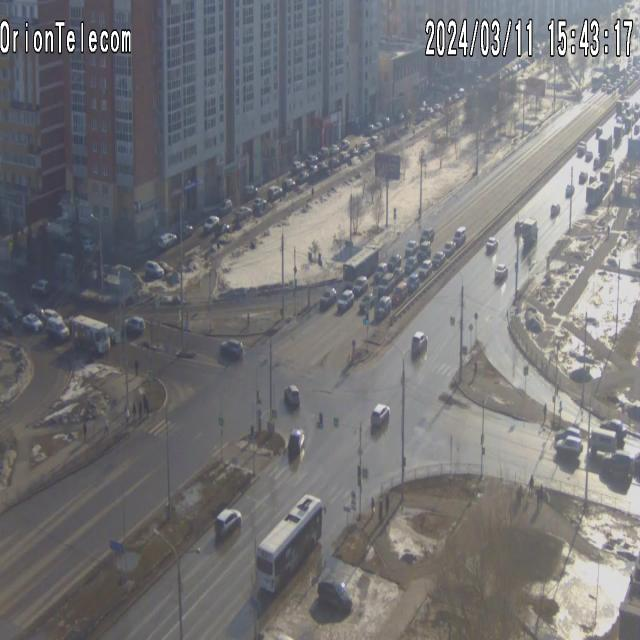car: (253, 492, 324, 598), (69, 311, 111, 359), (343, 242, 380, 287), (317, 573, 352, 617), (601, 446, 635, 483), (214, 505, 244, 541), (588, 426, 616, 457), (44, 314, 70, 346), (370, 399, 393, 432), (556, 432, 582, 460), (217, 335, 243, 363), (120, 314, 146, 341), (318, 282, 339, 314), (22, 310, 44, 340), (287, 425, 305, 458), (143, 259, 165, 285), (373, 294, 393, 322), (411, 328, 430, 356), (391, 277, 407, 310), (282, 381, 300, 410), (377, 272, 395, 300), (522, 216, 539, 245), (336, 290, 355, 315), (29, 278, 50, 300), (358, 291, 375, 318), (158, 230, 178, 251), (352, 274, 368, 298), (416, 240, 432, 264), (372, 261, 388, 284), (386, 252, 402, 275), (431, 248, 447, 271), (418, 258, 433, 281), (420, 225, 435, 248), (177, 220, 194, 240), (203, 214, 220, 234), (453, 226, 467, 250), (217, 197, 233, 218), (268, 182, 284, 202), (404, 254, 419, 275), (442, 238, 457, 259), (235, 205, 252, 223), (404, 238, 419, 258), (252, 197, 268, 215), (295, 170, 311, 188), (214, 223, 230, 240), (242, 183, 258, 200), (280, 176, 296, 193), (495, 261, 508, 281), (486, 235, 499, 254), (550, 200, 561, 218), (290, 159, 304, 173), (305, 152, 317, 167)
